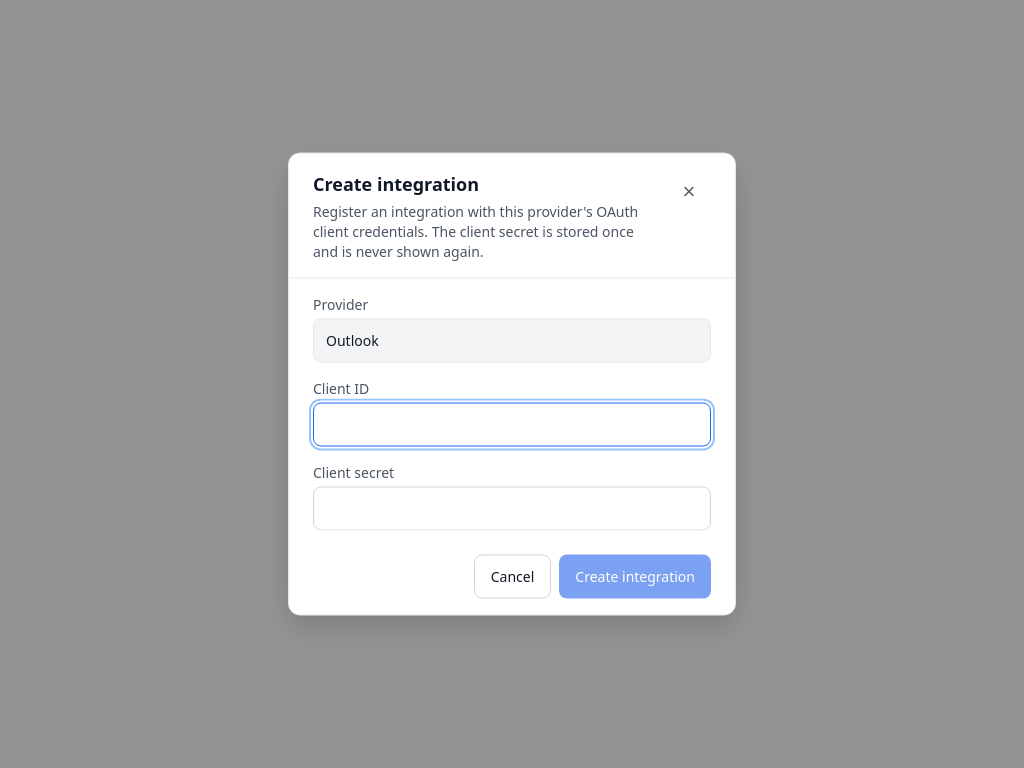
Test case: CreateIntegrationModal › keeps the submit button disabled until both client id and client secret are supplied
Expected: the button "Create integration" is disabled, [559,554,711,598]
Type "client-abc" into the field labelled "Client ID" at {"x": 512, "y": 424}, box [313,402,711,446]
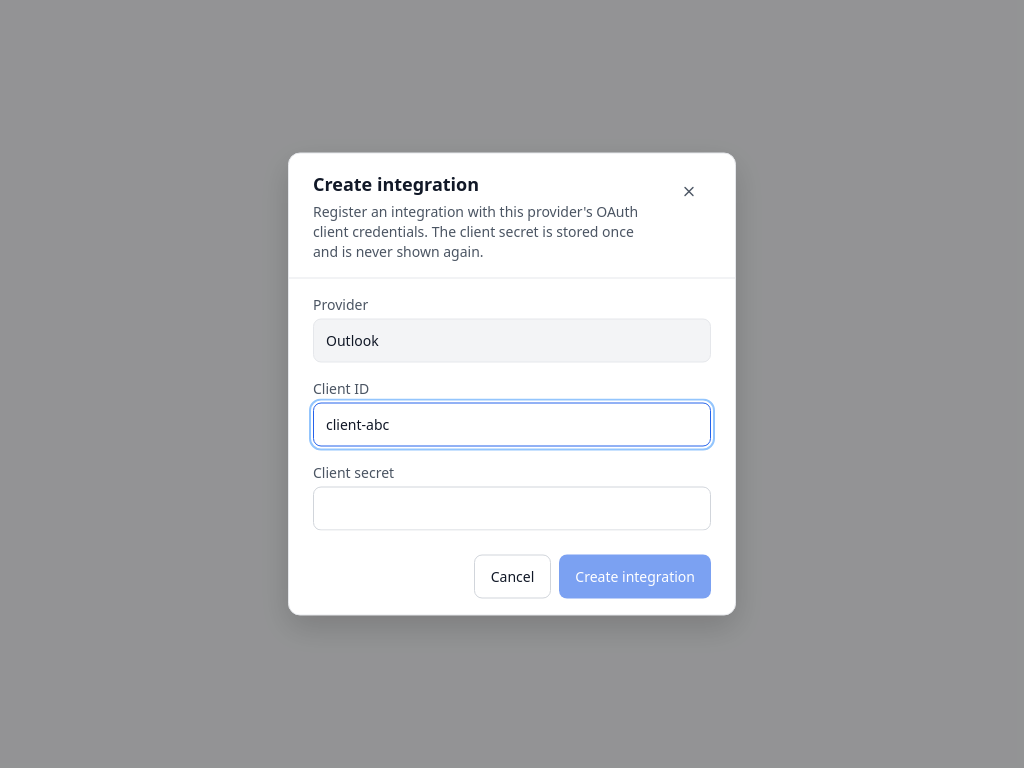
Expected: the button "Create integration" is disabled, [559,554,711,598]
Type "s3cr3t" into the password field labelled "Client secret" at {"x": 512, "y": 508}, box [313,486,711,530]
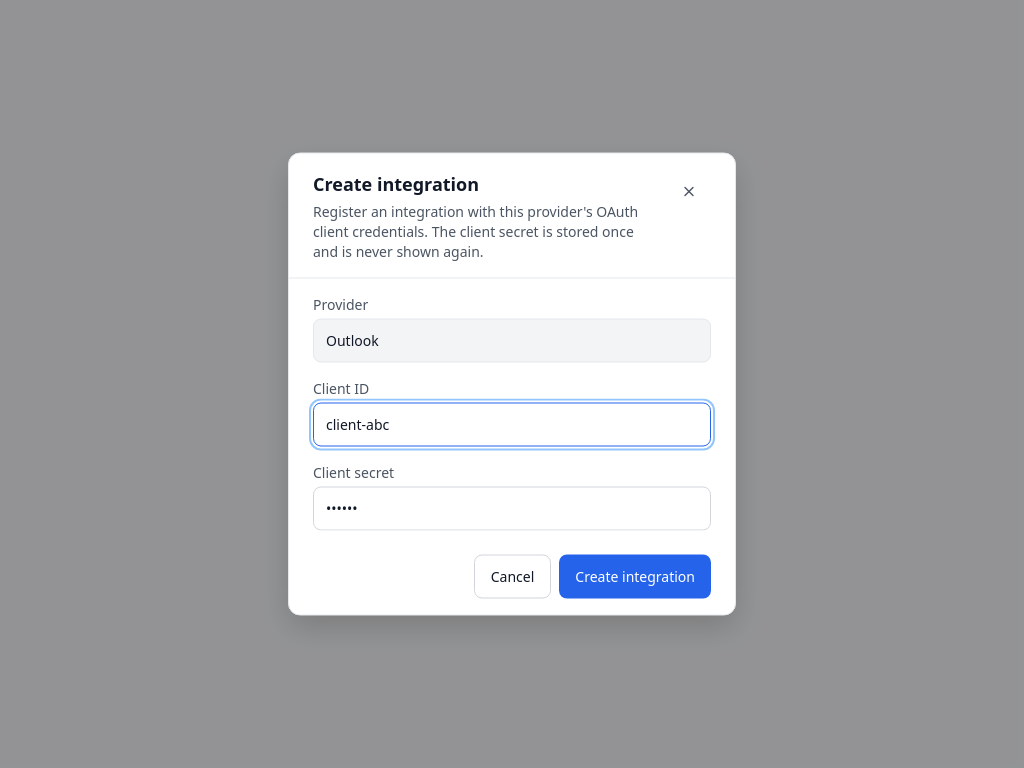
Expected: the button "Create integration" is enabled, [559,554,711,598]
